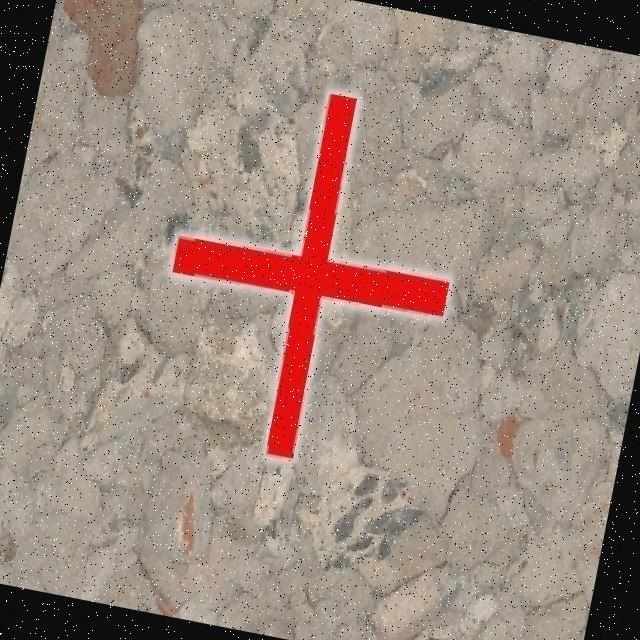x_marker: (139, 69, 480, 482)
